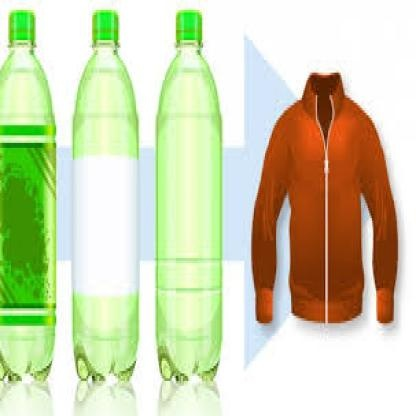trash: (252, 73, 397, 322), (72, 10, 138, 379), (156, 10, 221, 380), (0, 10, 55, 379)
